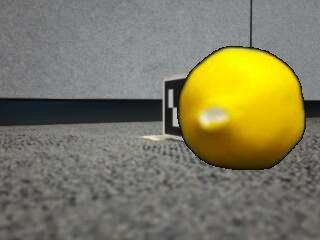lemon: (179, 47, 305, 170)
